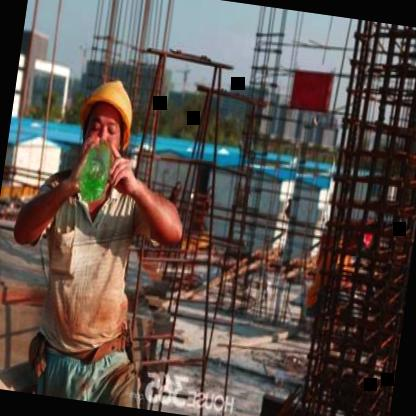helmet: (72, 66, 144, 166)
